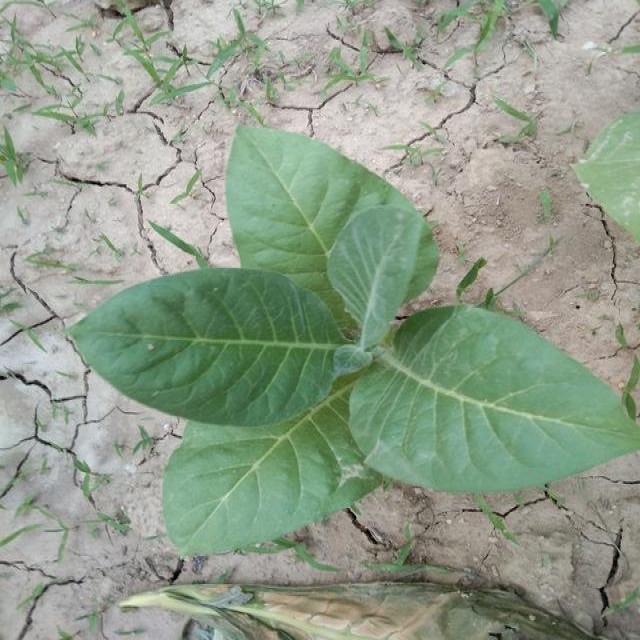crop: (58, 102, 634, 564)
